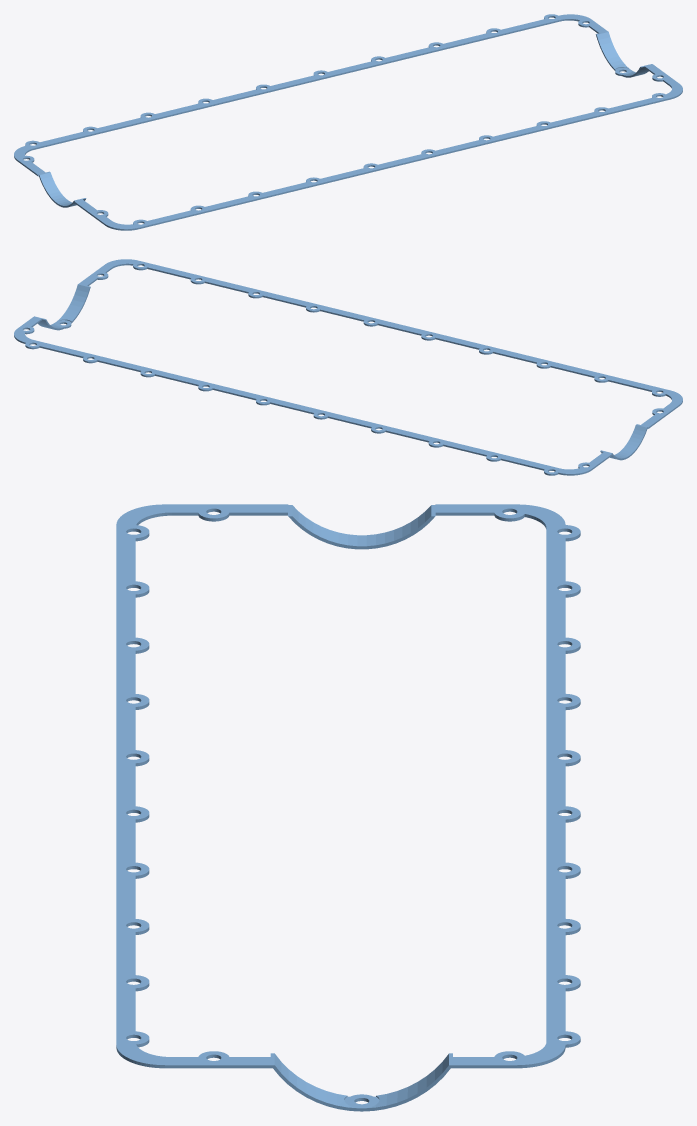
The model's file is oil-pan-molded-gasket.glb.
3 renders of one model, top to bottom at view 1: azimuth 30°, elevation 25°; view 2: azimuth 150°, elevation 25°; view 3: azimuth 270°, elevation 25°, orthographic. The views are drawn at different scales.
Parts seen in each view (by area): view 1: world; view 2: world; view 3: world.
Part boxes in pixels (left/top/right/bottom): world: left=14, top=14, right=682, bottom=230; world: left=14, top=259, right=682, bottom=475; world: left=116, top=504, right=580, bottom=1111.
Bounding box in the file's own units: 0.762 × 0.0294 × 0.2666.
